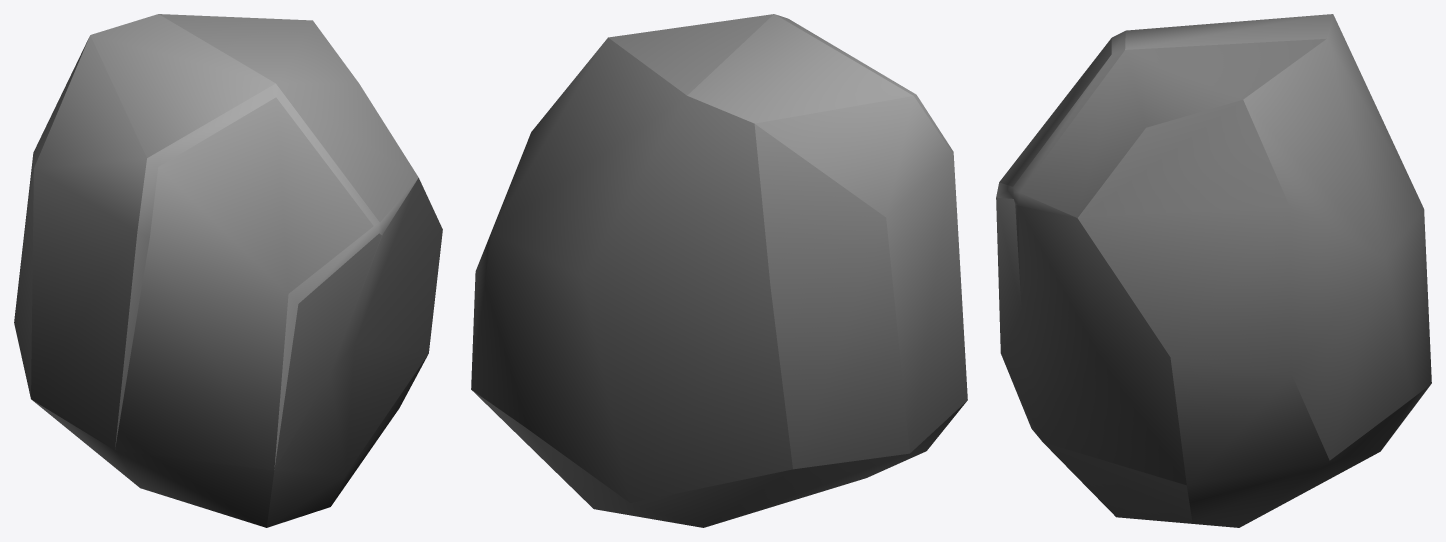
The model's file is rocks_005.glb.
3 renders of one model, left to right at view 1: azimuth 30°, elevation 25°; view 2: azimuth 150°, elevation 25°; view 3: azimuth 270°, elevation 25°, orthographic. The views are drawn at different scales.
Visible parts, largest first — view 1: rocks.005; view 2: rocks.005; view 3: rocks.005.
Boxes of the visible parts, bbox=[...] form: rocks.005: bbox=[14, 14, 442, 527]; rocks.005: bbox=[471, 14, 967, 527]; rocks.005: bbox=[996, 14, 1431, 527].
Bounding box in the file's own units: 0.5362 × 0.5896 × 0.5246.
1 material, 1 textured.
